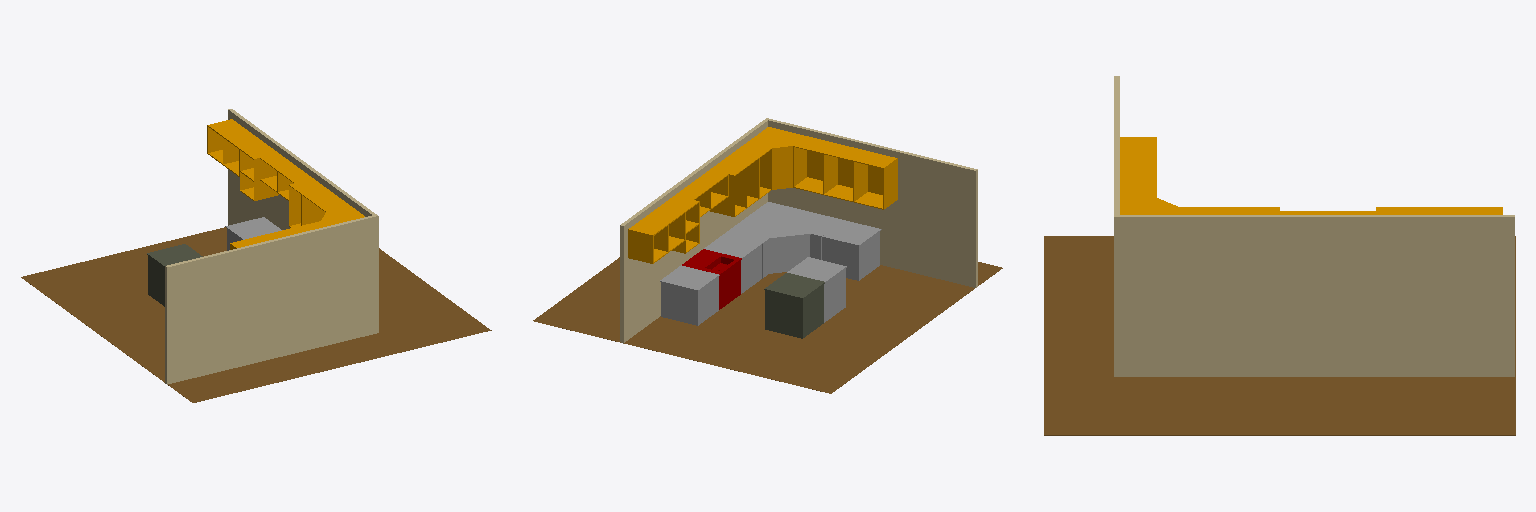
URDF robot description (Kitchen_static):
<?xml version="1.0"?>
<!-- created with Phobos 1.0.1 "Capricious Choutengan" -->
  <robot name="Kitchen_static">

    <link name="cabinets_root">
      <inertial>
        <origin xyz="0 0 0" rpy="0 0 0"/>
        <mass value="0.001"/>
        <inertia ixx="0.001" ixy="0" ixz="0" iyy="0.001" iyz="0" izz="0.001"/>
      </inertial>
      <visual name="Cabinets">
        <origin xyz="-0.45157 -0.20882 0" rpy="0 0 0"/>
        <geometry>
          <mesh filename="package://Kitchen_static/meshes/dae/Cabinets.dae" scale="1.0 1.0 1.0"/>
        </geometry>
      </visual>
      <collision name="Cabinets.000">
        <origin xyz="-0.45157 -0.20882 0" rpy="0 0 0"/>
        <geometry>
          <mesh filename="package://Kitchen_static/meshes/dae/Cabinets.010.dae" scale="1.0 1.0 1.0"/>
        </geometry>
      </collision>
    </link>

    <link name="countertop1_link">
      <inertial>
        <origin xyz="0 0 0" rpy="0 0 0"/>
        <mass value="0.001"/>
        <inertia ixx="0.001" ixy="0" ixz="0" iyy="0.001" iyz="0" izz="0.001"/>
      </inertial>
      <visual name="Countertop_Top1">
        <origin xyz="0 -0.00258 -0.00031" rpy="0 0 0"/>
        <geometry>
          <mesh filename="package://Kitchen_static/meshes/dae/Cube.152.dae" scale="1.0 1.0 1.0"/>
        </geometry>
        <material name="CounterTopWood"/>
      </visual>
      <collision name="Countertop_Top1.000">
        <origin xyz="0 -0.00258 -0.00061" rpy="0 0 0"/>
        <geometry>
          <mesh filename="package://Kitchen_static/meshes/dae/Cube.153.dae" scale="1.0 1.0 1.0"/>
        </geometry>
      </collision>
    </link>

    <link name="countertop_corner_link">
      <inertial>
        <origin xyz="0 0 0" rpy="0 0 0"/>
        <mass value="0.001"/>
        <inertia ixx="0.001" ixy="0" ixz="0" iyy="0.001" iyz="0" izz="0.001"/>
      </inertial>
      <visual name="Countertop_Corner_Base">
        <origin xyz="0 0 0" rpy="0 0 0"/>
        <geometry>
          <mesh filename="package://Kitchen_static/meshes/dae/Cube.154.dae" scale="1.0 1.0 1.0"/>
        </geometry>
        <material name="CounterTopWood"/>
      </visual>
      <collision name="Countertop_Corner_Base.000">
        <origin xyz="0.0007 -0.00555 0.0003" rpy="0 0 0"/>
        <geometry>
          <mesh filename="package://Kitchen_static/meshes/dae/Cube.158.dae" scale="1.0 1.0 1.0"/>
        </geometry>
      </collision>
    </link>

    <link name="countertop_edge_link">
      <inertial>
        <origin xyz="0 0 0" rpy="0 0 0"/>
        <mass value="0.001"/>
        <inertia ixx="0.001" ixy="0" ixz="0" iyy="0.001" iyz="0" izz="0.001"/>
      </inertial>
      <visual name="Countertop_Top.001">
        <origin xyz="0 0 0" rpy="0 0 0"/>
        <geometry>
          <mesh filename="package://Kitchen_static/meshes/dae/Cube.155.dae" scale="1.0 1.0 1.0"/>
        </geometry>
        <material name="CounterTopWood"/>
      </visual>
      <collision name="Countertop_Top.001.000">
        <origin xyz="0 0 6e-05" rpy="0 0 0"/>
        <geometry>
          <mesh filename="package://Kitchen_static/meshes/dae/Cube.156.dae" scale="1.0 1.0 1.0"/>
        </geometry>
      </collision>
    </link>

    <link name="countertop_link">
      <inertial>
        <origin xyz="0 0 0" rpy="0 0 0"/>
        <mass value="0.001"/>
        <inertia ixx="0.001" ixy="0" ixz="0" iyy="0.001" iyz="0" izz="0.001"/>
      </inertial>
      <visual name="Countertop_Top">
        <origin xyz="0 0 0" rpy="0 0 0"/>
        <geometry>
          <mesh filename="package://Kitchen_static/meshes/dae/Cube.142.dae" scale="1.0 1.0 1.0"/>
        </geometry>
        <material name="CounterTopWood"/>
      </visual>
      <collision name="Countertop_Top.col">
        <origin xyz="0 0 0.00015" rpy="0 0 0"/>
        <geometry>
          <mesh filename="package://Kitchen_static/meshes/dae/Cube.143.dae" scale="1.0 1.0 1.0"/>
        </geometry>
      </collision>
    </link>

    <link name="countertop_sink_link">
      <inertial>
        <origin xyz="0 0 0" rpy="0 0 0"/>
        <mass value="0.001"/>
        <inertia ixx="0.001" ixy="0" ixz="0" iyy="0.001" iyz="0" izz="0.001"/>
      </inertial>
      <visual name="Countertop_Sink">
        <origin xyz="0 0 0" rpy="0 0 0"/>
        <geometry>
          <mesh filename="package://Kitchen_static/meshes/dae/Cube.146.dae" scale="1.0 1.0 1.0"/>
        </geometry>
        <material name="CounterTopSink"/>
      </visual>
      <collision name="Countertop_Sink.000">
        <origin xyz="0 0 -0.00261" rpy="0 0 0"/>
        <geometry>
          <mesh filename="package://Kitchen_static/meshes/dae/Cube.147.dae" scale="1.0 1.0 1.0"/>
        </geometry>
      </collision>
    </link>

    <link name="countertop_tall2_link">
      <inertial>
        <origin xyz="0 0 0" rpy="0 0 0"/>
        <mass value="0.001"/>
        <inertia ixx="0.001" ixy="0" ixz="0" iyy="0.001" iyz="0" izz="0.001"/>
      </inertial>
      <visual name="Countertop_Top_Taller2">
        <origin xyz="0 0 0" rpy="0 0 0"/>
        <geometry>
          <mesh filename="package://Kitchen_static/meshes/dae/Cube.008.dae" scale="1.0 1.0 1.0"/>
        </geometry>
        <material name="GenericCounterMaterial"/>
      </visual>
      <collision name="Countertop_Top_Taller2.col">
        <origin xyz="0 0 0.00057" rpy="0 0 0"/>
        <geometry>
          <mesh filename="package://Kitchen_static/meshes/dae/Cube.000.dae" scale="1.0 1.0 1.0"/>
        </geometry>
      </collision>
    </link>

    <link name="countertop_tall_link">
      <inertial>
        <origin xyz="0 0 0" rpy="0 0 0"/>
        <mass value="0.001"/>
        <inertia ixx="0.001" ixy="0" ixz="0" iyy="0.001" iyz="0" izz="0.001"/>
      </inertial>
      <visual name="Countertop_Top_Taller">
        <origin xyz="0 0 -0.00342" rpy="0 0 0"/>
        <geometry>
          <mesh filename="package://Kitchen_static/meshes/dae/Cube.157.dae" scale="1.0 1.0 1.0"/>
        </geometry>
        <material name="CounterTopWood"/>
      </visual>
      <collision name="Countertop_Top_Taller.000">
        <origin xyz="0 0 -0.00019" rpy="0 0 0"/>
        <geometry>
          <mesh filename="package://Kitchen_static/meshes/dae/Cube.159.dae" scale="1.0 1.0 1.0"/>
        </geometry>
      </collision>
    </link>

    <link name="root_static">
      <inertial>
        <origin xyz="0 0 0" rpy="0 0 0"/>
        <mass value="0.001"/>
        <inertia ixx="0.001" ixy="0" ixz="0" iyy="0.001" iyz="0" izz="0.001"/>
      </inertial>
      <visual name="Floor">
        <origin xyz="0 0 0" rpy="0 0 0"/>
        <geometry>
          <box size="8.0 8.0 0.002"/>
        </geometry>
        <material name="Floor_Material"/>
      </visual>
      <collision name="Floor">
        <origin xyz="0 0 0" rpy="0 0 0"/>
        <geometry>
          <box size="8.0 8.0 0.002"/>
        </geometry>
      </collision>
    </link>

    <link name="wall1">
      <inertial>
        <origin xyz="0 0 0" rpy="0 0 0"/>
        <mass value="0.001"/>
        <inertia ixx="0.001" ixy="0" ixz="0" iyy="0.001" iyz="0" izz="0.001"/>
      </inertial>
      <visual name="Wall_1">
        <origin xyz="0 0 0" rpy="0 0 0"/>
        <geometry>
          <box size="0.10015 6.70389 3.00596"/>
        </geometry>
        <material name="Wall_material"/>
      </visual>
      <collision name="Wall_1.col">
        <origin xyz="0 0 0" rpy="0 0 0"/>
        <geometry>
          <box size="0.10015 6.70389 3.00596"/>
        </geometry>
      </collision>
    </link>

    <link name="wall2">
      <inertial>
        <origin xyz="0 0 0" rpy="0 0 0"/>
        <mass value="0.001"/>
        <inertia ixx="0.001" ixy="0" ixz="0" iyy="0.001" iyz="0" izz="0.001"/>
      </inertial>
      <visual name="Wall_2">
        <origin xyz="0 0 0" rpy="0 0 0"/>
        <geometry>
          <box size="5.65911 0.10015 3.00596"/>
        </geometry>
        <material name="Wall_material"/>
      </visual>
      <collision name="Wall_2">
        <origin xyz="0 0 0" rpy="0 0 0"/>
        <geometry>
          <box size="5.65911 0.10015 3.00596"/>
        </geometry>
      </collision>
    </link>

    <joint name="cabinets_root" type="fixed">
      <origin xyz="1.23355 0.35459 2.3706" rpy="0 0 0"/>
      <parent link="root_static"/>
      <child link="cabinets_root"/>
    </joint>

    <joint name="countertop1_link" type="fixed">
      <origin xyz="1.04436 -0.18407 0.90913" rpy="0 0 0"/>
      <parent link="root_static"/>
      <child link="countertop1_link"/>
    </joint>

    <joint name="countertop_corner_link" type="fixed">
      <origin xyz="0.63422 -1.78146 0.44381" rpy="0 0 -3.14159"/>
      <parent link="root_static"/>
      <child link="countertop_corner_link"/>
    </joint>

    <joint name="countertop_edge_link" type="fixed">
      <origin xyz="-0.95636 -2.19209 0.90906" rpy="0 0 0"/>
      <parent link="root_static"/>
      <child link="countertop_edge_link"/>
    </joint>

    <joint name="countertop_link" type="fixed">
      <origin xyz="1.04436 1.80656 0.90913" rpy="0 0 0"/>
      <parent link="root_static"/>
      <child link="countertop_link"/>
    </joint>

    <joint name="countertop_sink_link" type="fixed">
      <origin xyz="1.04357 0.81118 0.90952" rpy="0 0 3.14154"/>
      <parent link="root_static"/>
      <child link="countertop_sink_link"/>
    </joint>

    <joint name="countertop_tall2_link" type="continuous">
      <origin xyz="-1.41531 1.20516 0.92078" rpy="0 0 0"/>
      <parent link="root_static"/>
      <child link="countertop_tall2_link"/>
      <axis xyz="0 0 1.0"/>
      <limit effort="0" velocity="0"/>
    </joint>

    <joint name="countertop_tall_link" type="fixed">
      <origin xyz="-1.41586 0.20737 0.92078" rpy="0 0 0"/>
      <parent link="root_static"/>
      <child link="countertop_tall_link"/>
    </joint>

    <joint name="wall1" type="fixed">
      <origin xyz="1.60982 0.64096 1.49534" rpy="0 0 0"/>
      <parent link="root_static"/>
      <child link="wall1"/>
    </joint>

    <joint name="wall2" type="fixed">
      <origin xyz="-1.16959 -2.76415 1.49534" rpy="0 0 0"/>
      <parent link="root_static"/>
      <child link="wall2"/>
    </joint>

    <material name="CounterTopSink">
      <color rgba="0.64 0 0.00054 1.0"/>
    </material>

    <material name="CounterTopWood">
      <color rgba="0.64 0.64 0.64 1.0"/>
    </material>

    <material name="Floor_Material">
      <color rgba="0.51303 0.37541 0.19019 1.0"/>
    </material>

    <material name="GenericCounterMaterial">
      <color rgba="0.36791 0.38159 0.31374 1.0"/>
    </material>

    <material name="Wall_material">
      <color rgba="0.8 0.74126 0.58046 1.0"/>
    </material>

  </robot>

--- Render facts (derived) ---
3 views of the same robot in one strip: view 1: azimuth 30°, elevation 25°; view 2: azimuth 150°, elevation 25°; view 3: azimuth 270°, elevation 25° (orthographic).
Robot: Kitchen_static — 11 links, 10 joints (1 continuous, 9 fixed); root link root_static; default pose: every joint at zero.
Links seen in each view (by area): view 1: wall2, root_static, cabinets_root, wall1, countertop_tall2_link, countertop_link; view 2: root_static, cabinets_root, wall2, wall1, countertop_corner_link, countertop_tall2_link, countertop_link, countertop_edge_link, countertop_tall_link, countertop_sink_link, countertop1_link; view 3: wall1, root_static, cabinets_root, wall2.
Link boxes in pixels (x1=…): wall2: x1=165, y1=214, x2=378, y2=384; root_static: x1=21, y1=227, x2=491, y2=402; cabinets_root: x1=207, y1=119, x2=364, y2=249; wall1: x1=228, y1=109, x2=375, y2=229; countertop_tall2_link: x1=147, y1=244, x2=202, y2=306; countertop_link: x1=225, y1=217, x2=281, y2=250; root_static: x1=533, y1=257, x2=1002, y2=393; cabinets_root: x1=628, y1=127, x2=897, y2=263; wall2: x1=765, y1=118, x2=977, y2=287; wall1: x1=620, y1=120, x2=767, y2=343; countertop_corner_link: x1=725, y1=202, x2=843, y2=278; countertop_tall2_link: x1=764, y1=273, x2=824, y2=338; countertop_link: x1=660, y1=265, x2=719, y2=325; countertop_edge_link: x1=822, y1=220, x2=881, y2=280; countertop_tall_link: x1=787, y1=257, x2=846, y2=322; countertop_sink_link: x1=682, y1=249, x2=741, y2=309; countertop1_link: x1=704, y1=234, x2=762, y2=293; wall1: x1=1120, y1=215, x2=1514, y2=376; root_static: x1=1044, y1=236, x2=1515, y2=435; cabinets_root: x1=1120, y1=137, x2=1502, y2=214; wall2: x1=1114, y1=76, x2=1119, y2=376.
Bounding box of the posed robot: 8 × 8 × 3.01 m (x, y, z).
Meshes: 8 distinct files referenced, 8 mesh visuals loaded (8 Collada DAE).